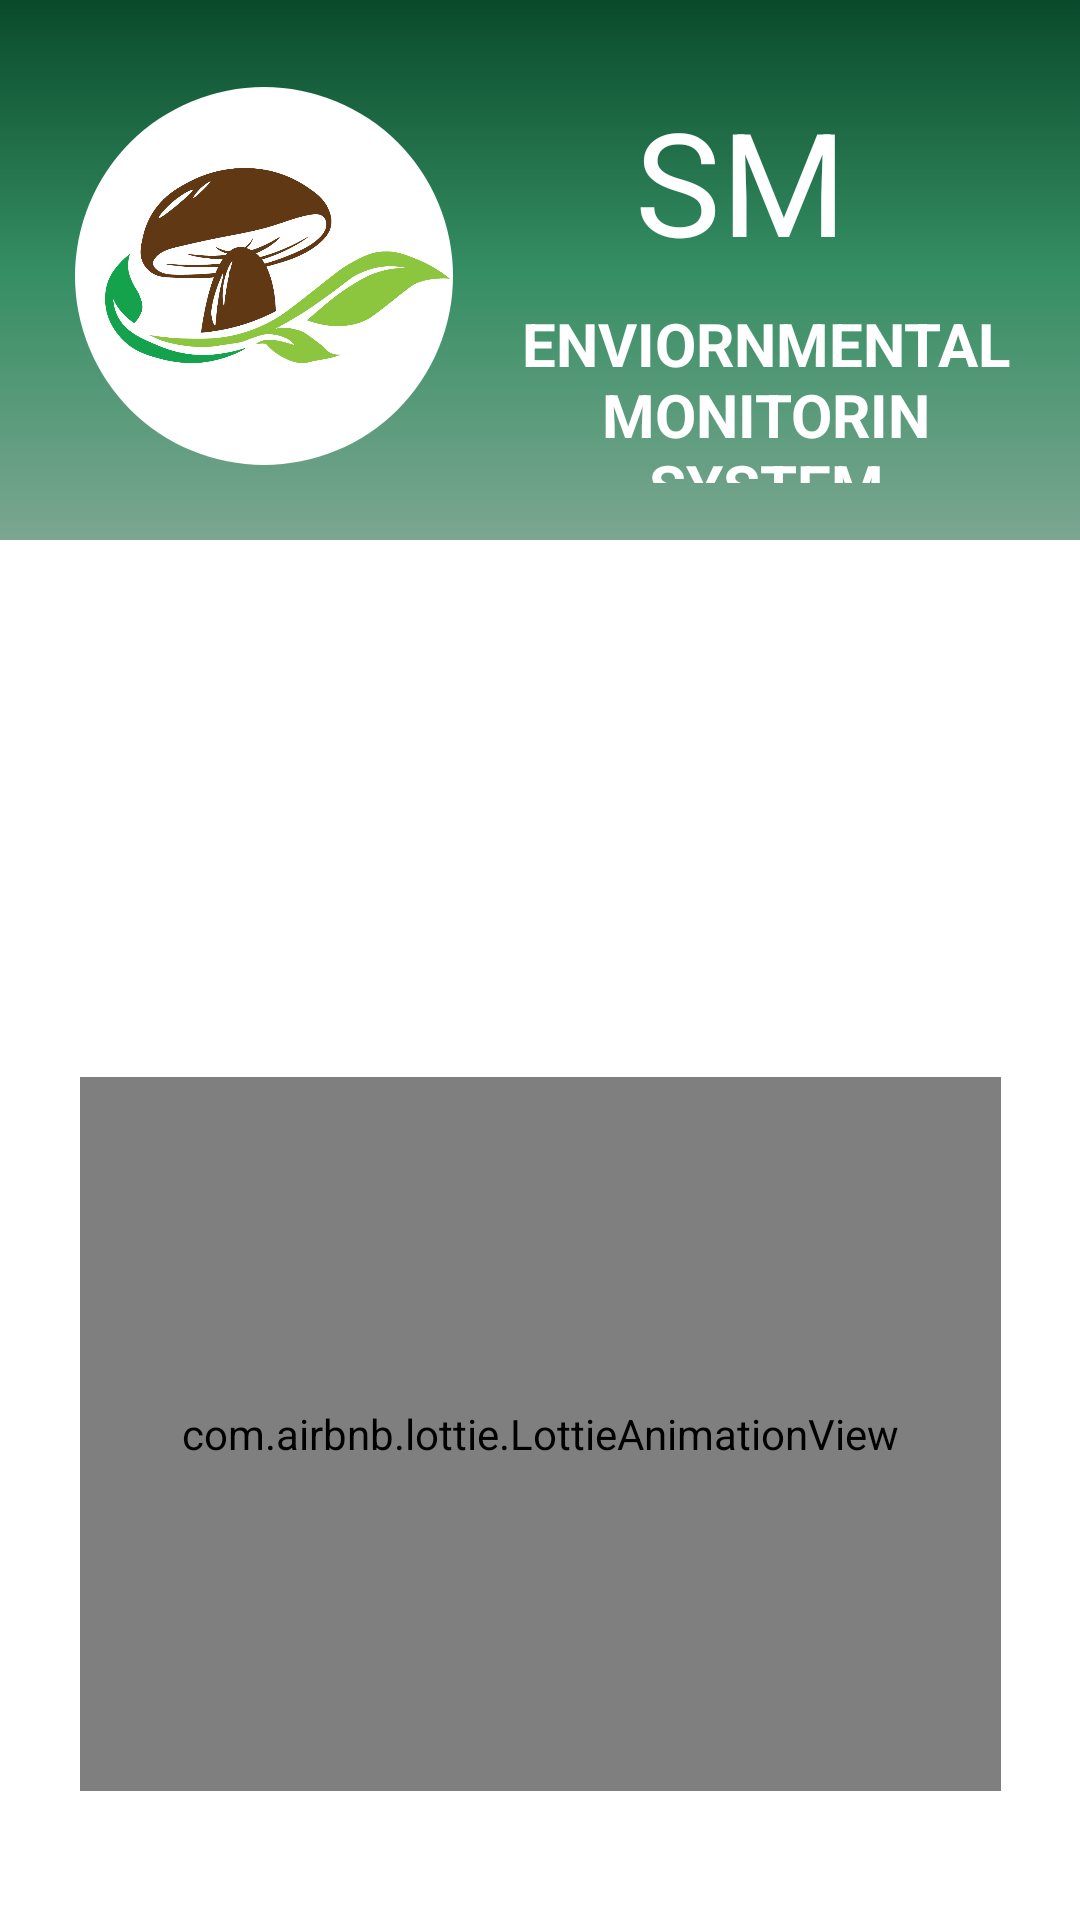

Where to tap for icons on this 1080px x 1920px app screen, as (x,y):
mashroom: (277,265)
